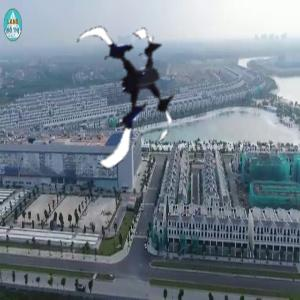drone: (58, 15, 198, 155)
